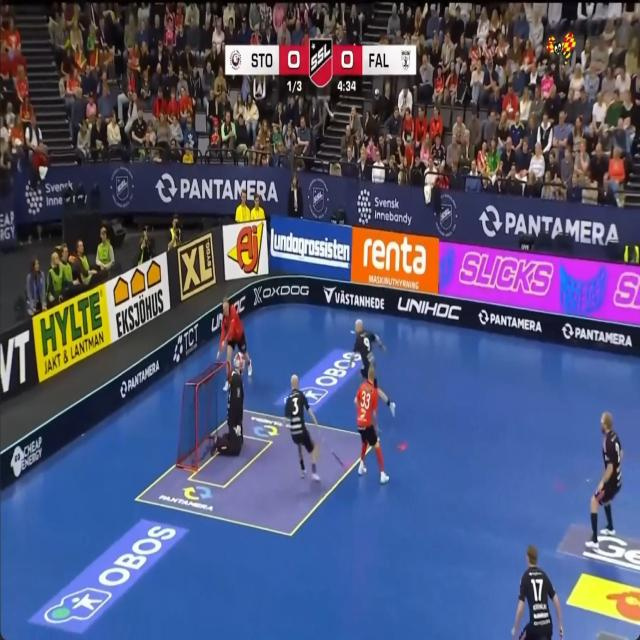player: (586, 412, 622, 548), (512, 545, 562, 639), (354, 365, 389, 483), (284, 375, 320, 480), (211, 353, 244, 455), (217, 298, 252, 389), (350, 320, 385, 379), (376, 384, 394, 414), (373, 379, 377, 382)
stick: (328, 447, 345, 467), (315, 422, 325, 447)
